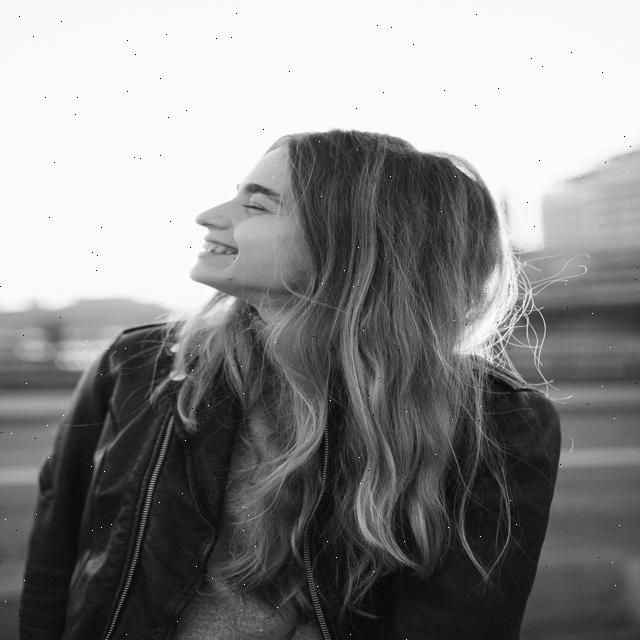Happiness: (186, 132, 308, 302)
